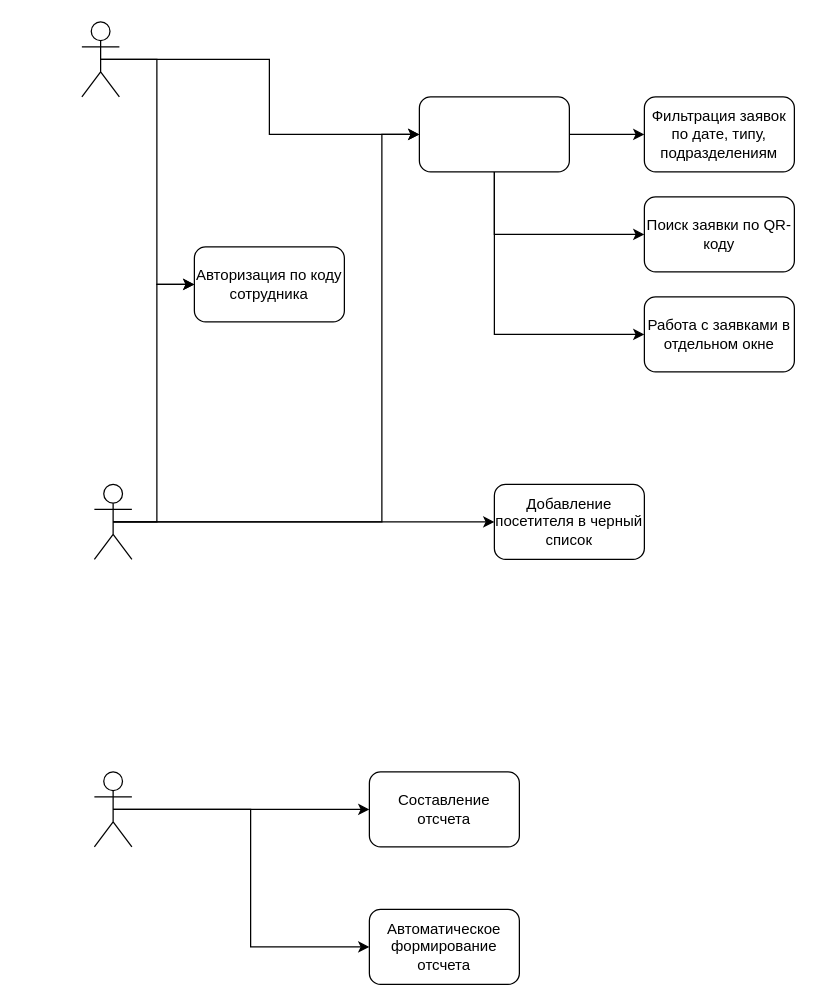
Some shapes in this 816 by 1006 pixel diagram are drawn without their labels. Here are the shapes that lost their labels. From the top down, the centre of each, then its label:
the point at 100,59: Сотрудник охраны
the point at 493,134: Просмотр списка одобренных заявок
the point at 112,521: Сотрудник подразделения
the point at 112,809: Сотрудник общего отдела
